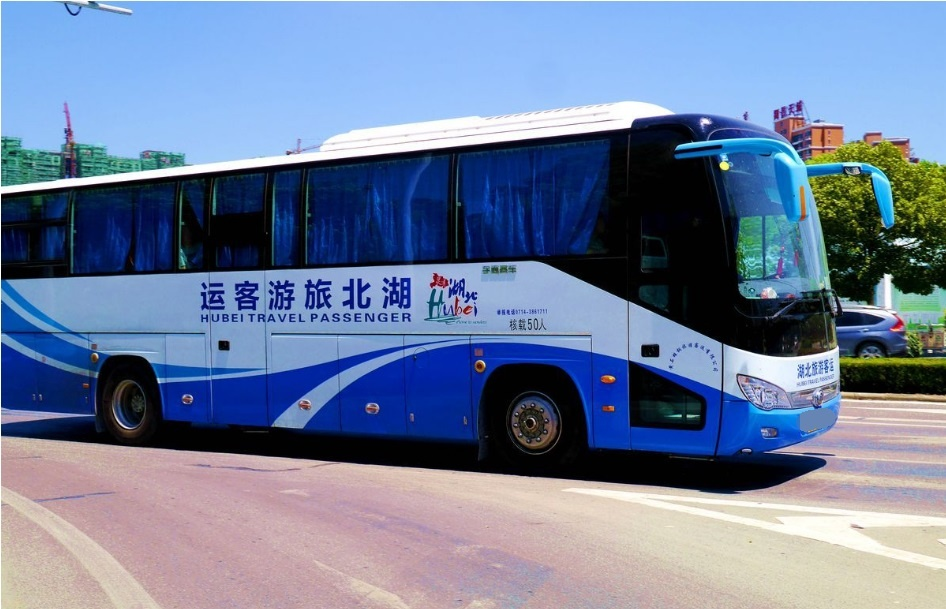bus: (14, 103, 875, 491)
